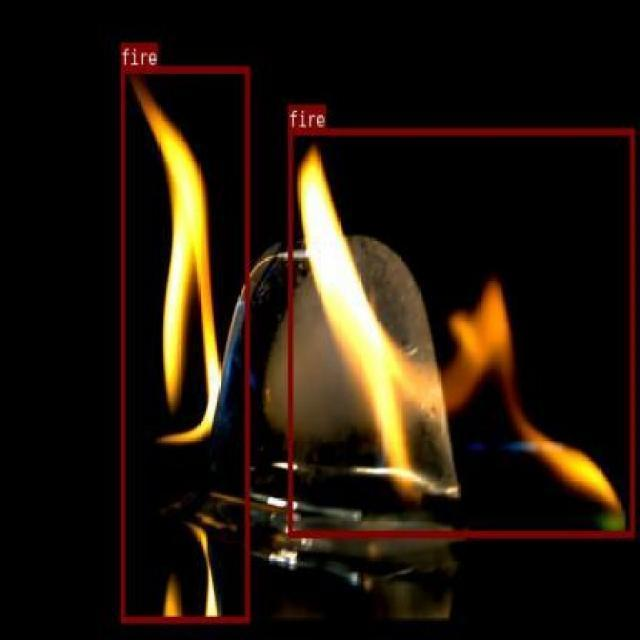Fire: (288, 128, 634, 536), (120, 65, 248, 622)
